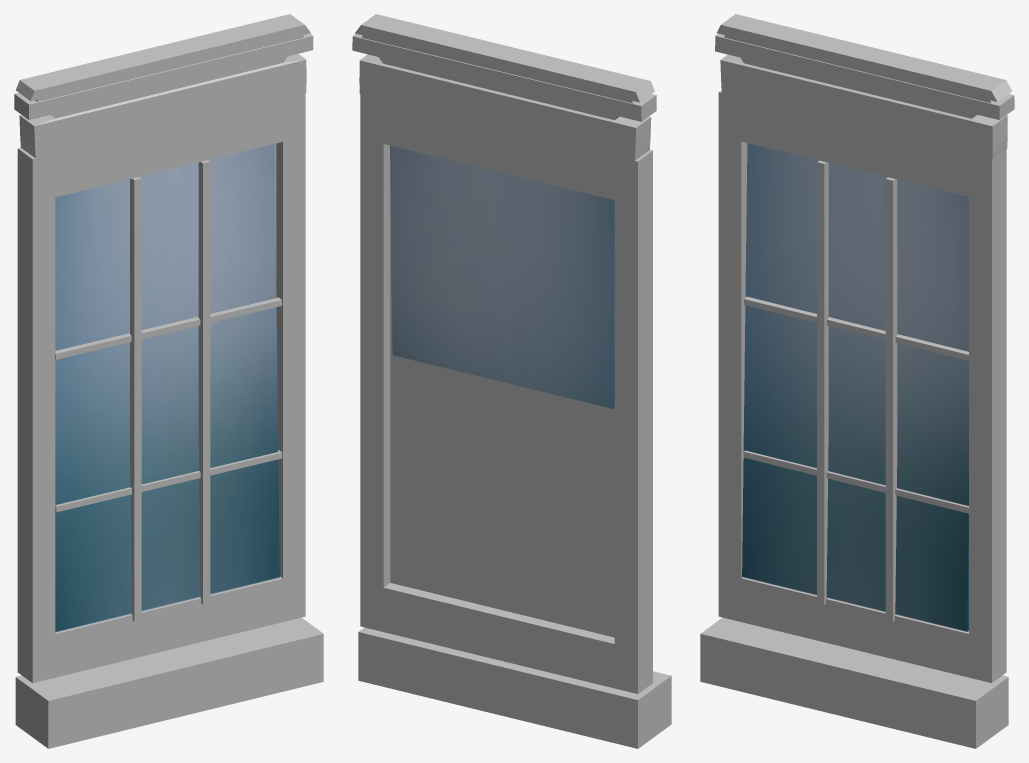
File: testwindow 1.fbx
The picture shows the model from 3 angles, left to right: view 1: azimuth 30°, elevation 25°; view 2: azimuth 150°, elevation 25°; view 3: azimuth 330°, elevation 25°; orthographic projection.
Parts seen in each view (by area): view 1: window, Back up building.311, Back up building.313, Back up building.312, Back up building.309, Back up building.310, Back up building.000, Back up building.001; view 2: Back up building.311, window, Back up building.313, Back up building.312; view 3: window, Back up building.311, Back up building.313, Back up building.312, Back up building.309, Back up building.310, Back up building.000, Back up building.001.
Part boxes in pixels (bbox=[...]): window: bbox=[55, 144, 279, 632]; Back up building.311: bbox=[17, 93, 305, 683]; Back up building.313: bbox=[14, 14, 313, 158]; Back up building.312: bbox=[15, 617, 323, 748]; Back up building.309: bbox=[198, 160, 210, 604]; Back up building.310: bbox=[130, 177, 141, 621]; Back up building.000: bbox=[55, 297, 281, 359]; Back up building.001: bbox=[55, 450, 282, 512]; Back up building.311: bbox=[360, 94, 652, 693]; window: bbox=[390, 145, 614, 409]; Back up building.313: bbox=[352, 14, 656, 161]; Back up building.312: bbox=[358, 627, 671, 748]; window: bbox=[742, 143, 968, 631]; Back up building.311: bbox=[718, 90, 1006, 682]; Back up building.313: bbox=[715, 14, 1014, 159]; Back up building.312: bbox=[700, 617, 1008, 748]; Back up building.309: bbox=[885, 177, 897, 621]; Back up building.310: bbox=[817, 160, 828, 605]; Back up building.000: bbox=[744, 296, 968, 360]; Back up building.001: bbox=[743, 450, 968, 513].
Size of the model in its own units: 1159 by 2511 by 232.
